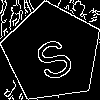S: (27, 27, 78, 84)
